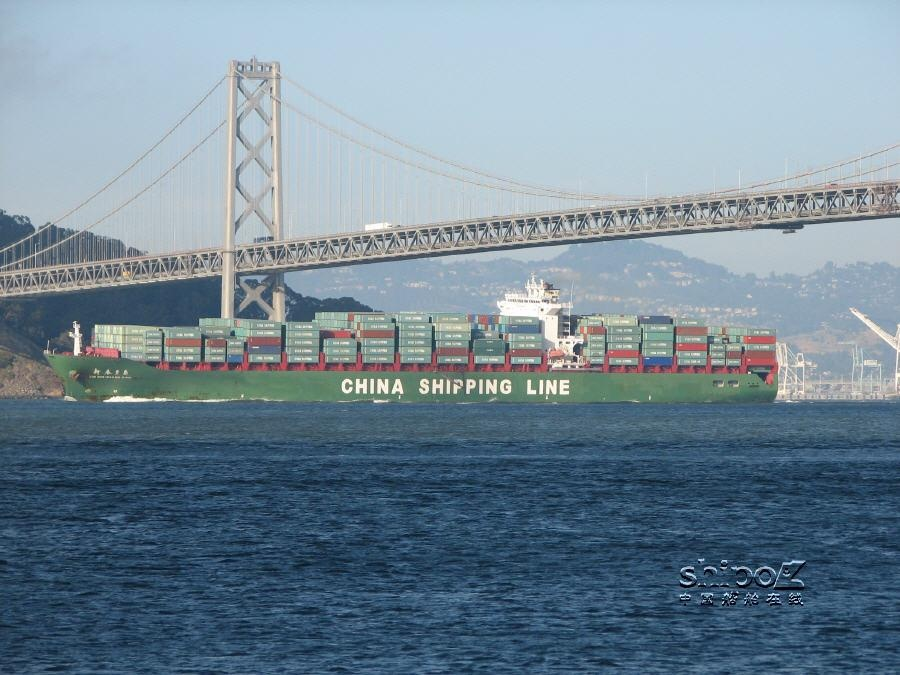Cargoship: (28, 273, 781, 411)
